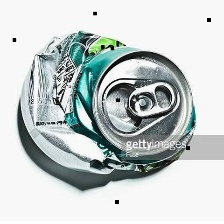can: (15, 22, 206, 185)
